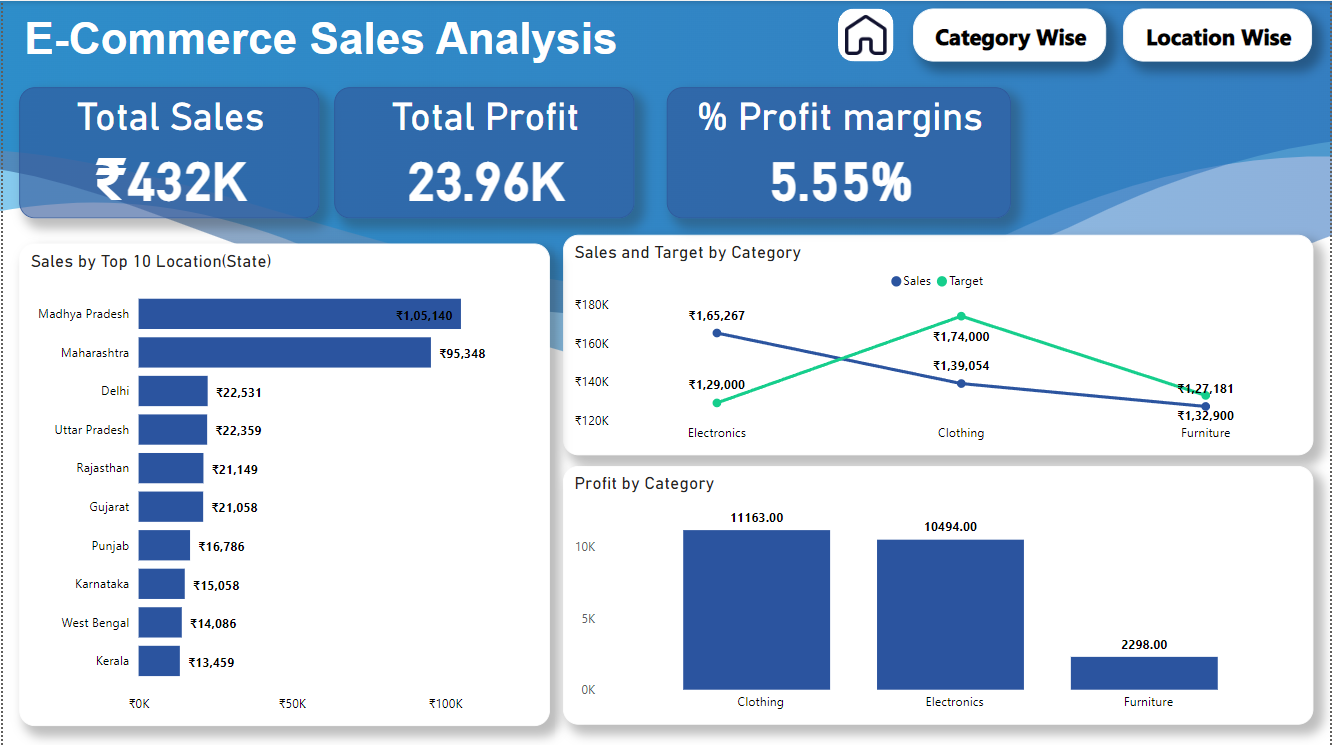

What the dashboard file says about the page in this screenshot:
{"tool":"powerbi","page":{"name":"Overall ","canvas":[1280,720],"ordinal":0},"visuals":[{"type":"textbox","box":[15.1,6.9,608.4,63.2],"z":1000},{"type":"card","title":"Total Sales","fields":{"Values":["Sum(Order Details.Amount)"]},"box":[15.1,83.8,289.8,126.4],"z":2000},{"type":"card","title":"Total Profit","fields":{"Values":["Sum(Order Details.Profit)"]},"box":[320,83.8,289.8,126.4],"z":3000},{"type":"lineChart","fields":{"Category":["Order Details.Category"],"Y":["Sum(Order Details.Amount)","Sum(Sales target.Target)"]},"box":[539.7,225.2,723.8,212.9],"z":4000},{"type":"clusteredBarChart","title":"Sales by Top 10 Location(State)","fields":{"Category":["List of Orders.State"],"Y":["Sum(Order Details.Amount)"]},"box":[15.1,233.5,512.3,465.6],"z":5000},{"type":"clusteredColumnChart","title":"Profit by Category","fields":{"Category":["Order Details.Category"],"Y":["Sum(Order Details.Profit)"]},"box":[539.7,449.1,723.8,250],"z":6000},{"type":"card","title":"% Profit margins","fields":{"Values":["Order Details.profit margin"]},"box":[640,83.8,332.4,126.4],"z":7000},{"type":"actionButton","box":[806.2,6.9,53.6,50.8],"z":8000},{"type":"actionButton","title":"Over All","box":[1080.9,6.9,182.7,50.8],"z":9000},{"type":"actionButton","title":"Over All","box":[877.6,6.9,186.8,50.8],"z":10000}]}

Visuals, with their boxes in screenshot pixels (x1, y1, x2, y2), scaled from the page's 1280x720 canvas onto the 1332x745 screenshot:
textbox: <box>16,7,649,73</box>
"Total Sales" card: <box>16,87,317,217</box>
"Total Profit" card: <box>333,87,635,217</box>
lineChart - Order Details.Category x Sum(Order Details.Amount): <box>562,233,1315,453</box>
"Sales by Top 10 Location(State)" clusteredBarChart: <box>16,242,549,723</box>
"Profit by Category" clusteredColumnChart: <box>562,465,1315,723</box>
"% Profit margins" card: <box>666,87,1012,217</box>
actionButton: <box>839,7,895,60</box>
"Over All" actionButton: <box>1125,7,1315,60</box>
"Over All" actionButton: <box>913,7,1108,60</box>
